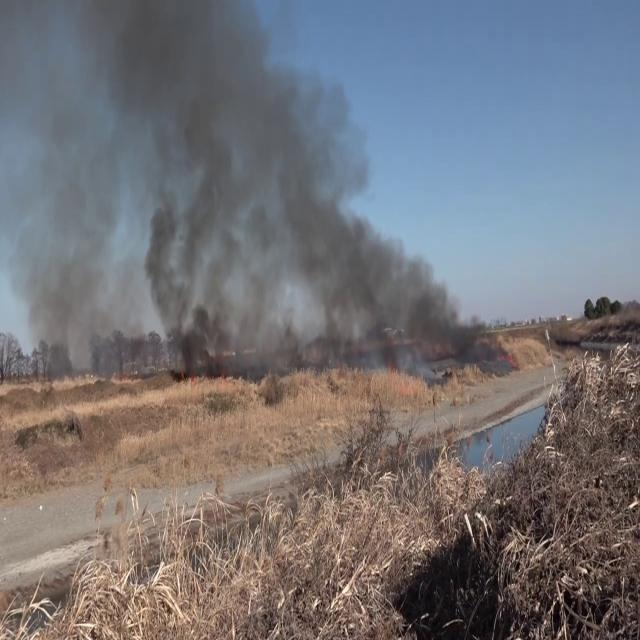Smoke: (2, 0, 292, 371), (290, 185, 498, 366)
